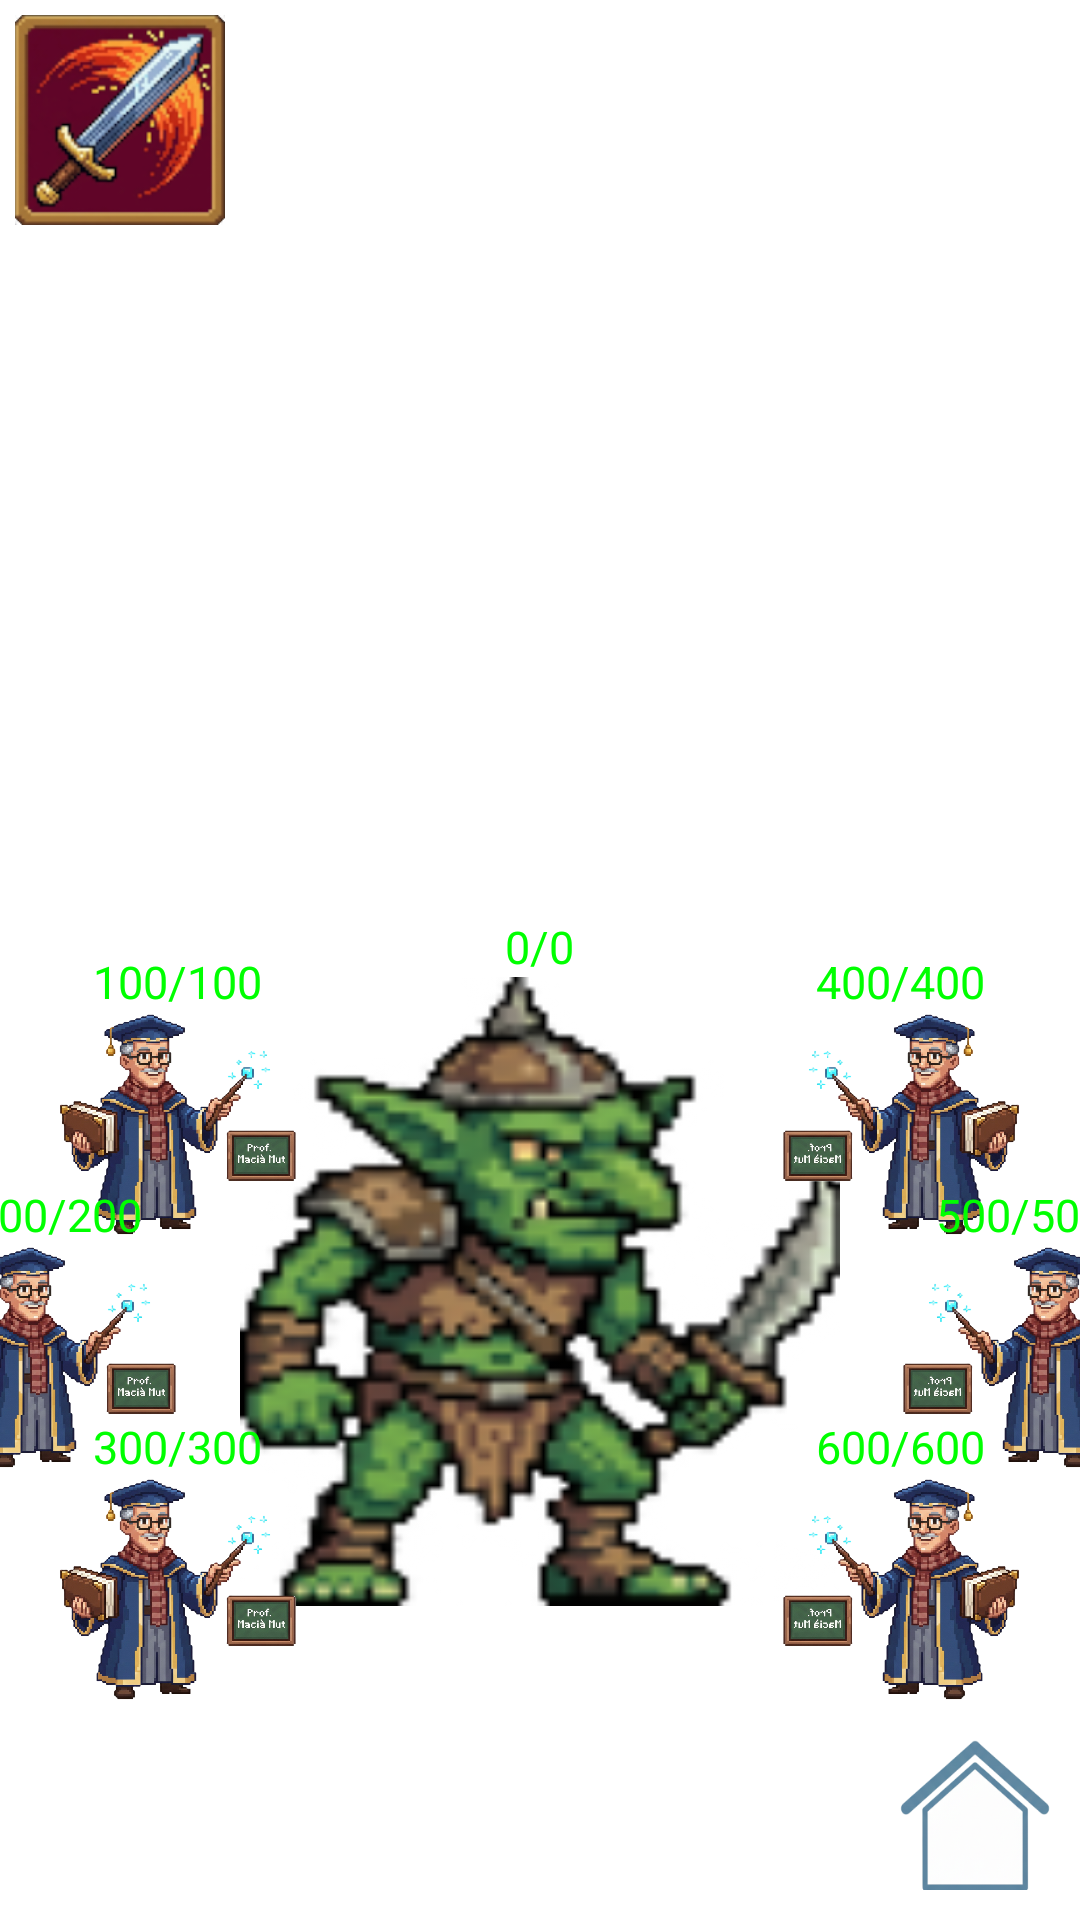

Icon click points for this 1080 x 1920 phone screenshot, format (x,y):
dungeon strike: (120,120)
home: (975,1815)
